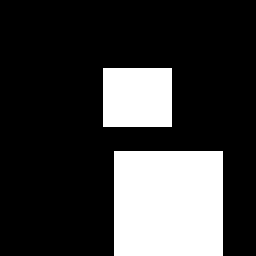rumex: (114, 151, 222, 256), (103, 68, 171, 126)
